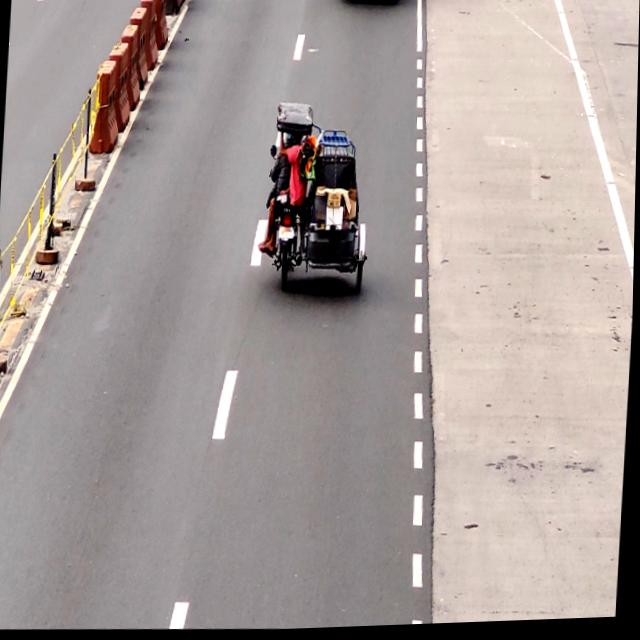Tricycle: (269, 105, 376, 294)
